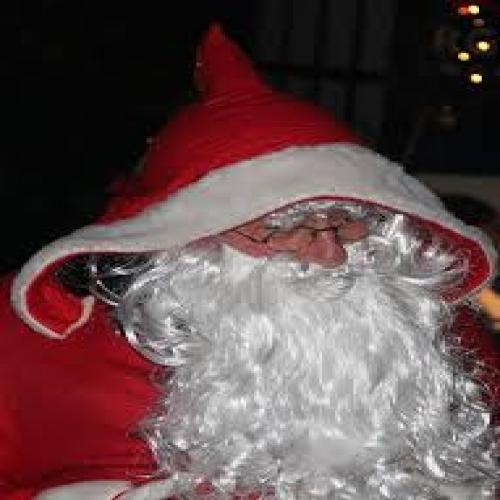Santa: (0, 20, 497, 498)
